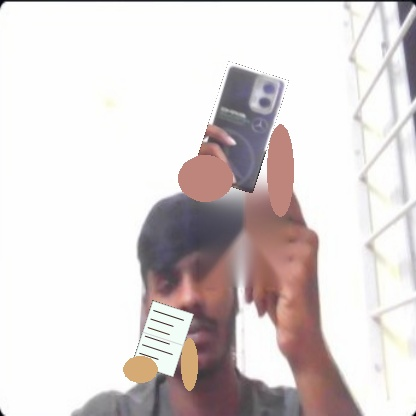cell_phone: (192, 61, 289, 193)
cheat_chit: (132, 300, 194, 377)
